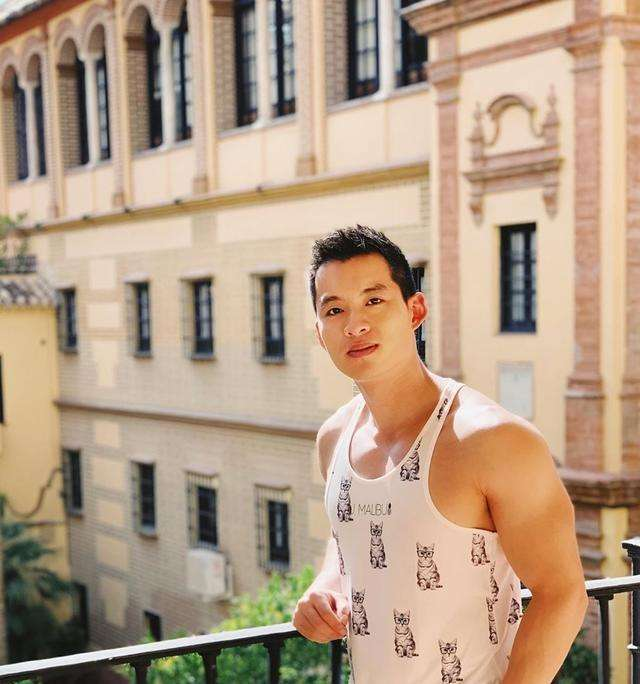person: (245, 206, 583, 684)
